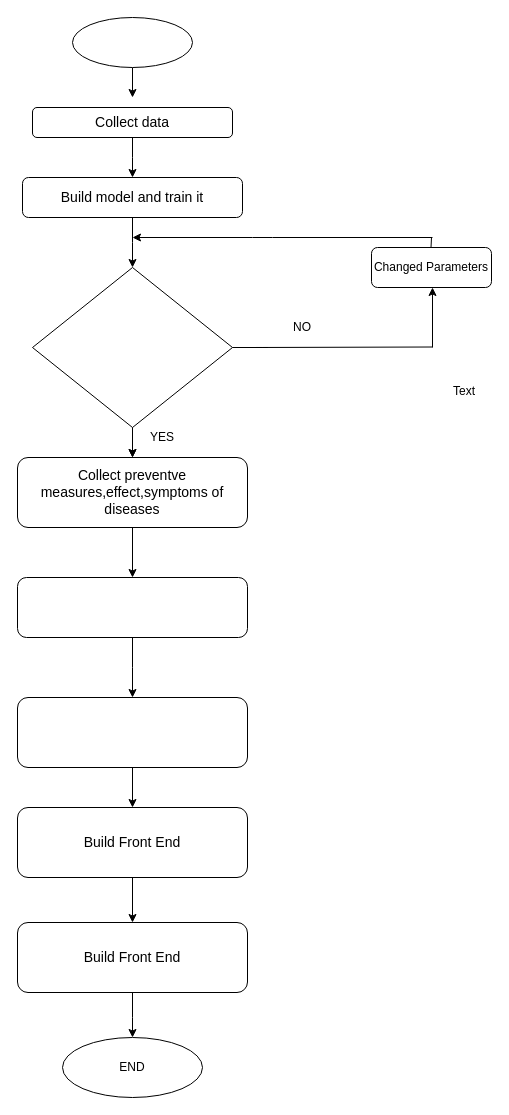
The diagram is 509 pixels wide and 1115 high, and some of its shapes have lost their labels. The centre of each missing label's shape, as x and y in pixels:
"Build Agrobot" goes at [132,607].
"Build server to correct agrobot and load mode l" goes at [132,732].
"Is Validation Satisfactory??" goes at [132,347].
"start" goes at [132,42].
